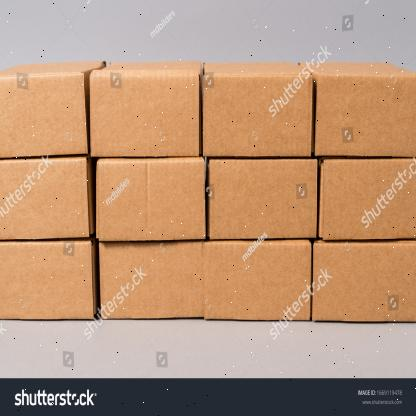box: (88, 70, 200, 158), (202, 72, 313, 158), (95, 159, 207, 240), (209, 158, 318, 239), (313, 72, 416, 157), (202, 241, 310, 320), (312, 241, 416, 323), (99, 242, 203, 319), (320, 158, 414, 239), (0, 72, 89, 157), (0, 158, 92, 238), (0, 241, 93, 319)
